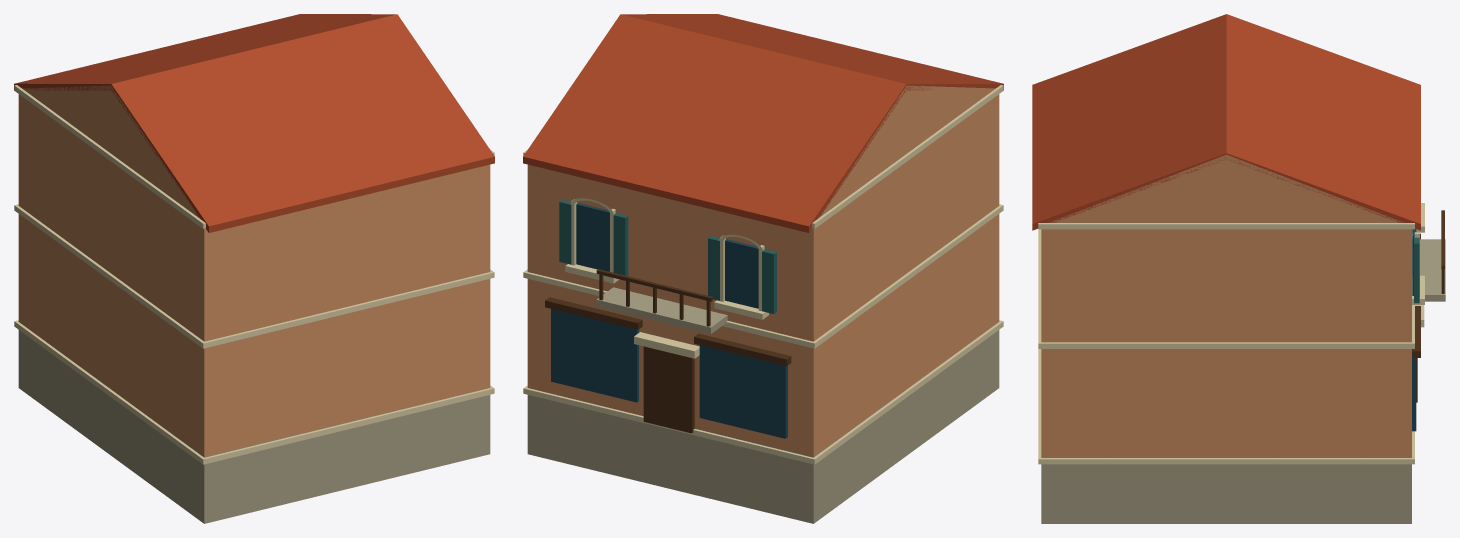
Rendered from merchant_house.glb.
3 views of the same model, side by side, from view 1: azimuth 30°, elevation 25°; view 2: azimuth 150°, elevation 25°; view 3: azimuth 270°, elevation 25° (orthographic).
Parts seen in each view (by area): view 1: House; view 2: House; view 3: House.
Boxes of the visible parts, box(x1,y1,x2,y2) form: House: box(14, 14, 494, 523); House: box(523, 14, 1003, 523); House: box(1032, 14, 1445, 523).
Bounding box in the file's own units: 8.15 × 9.94 × 10.04.
